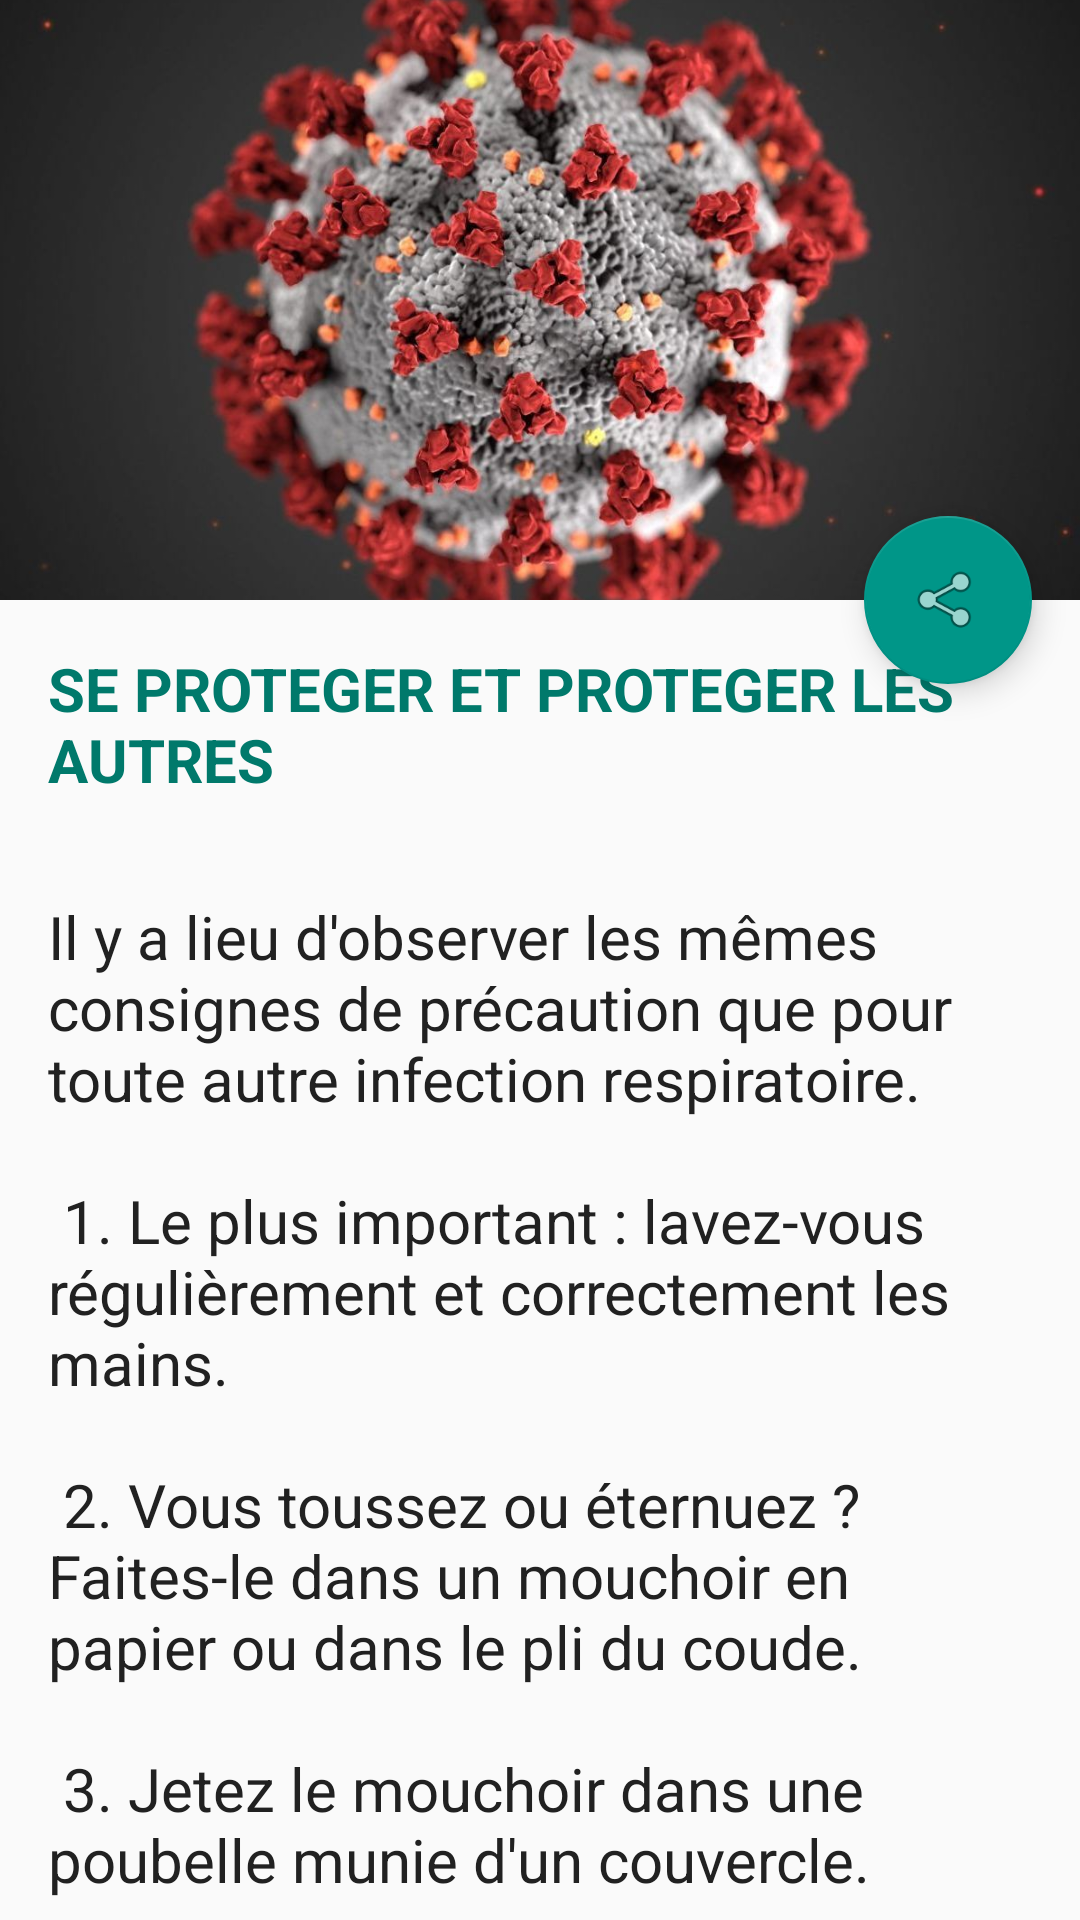

Icon click points for this 1080*1920 phone screenshot, format (x=x, y=y):
share: (x=948, y=600)
